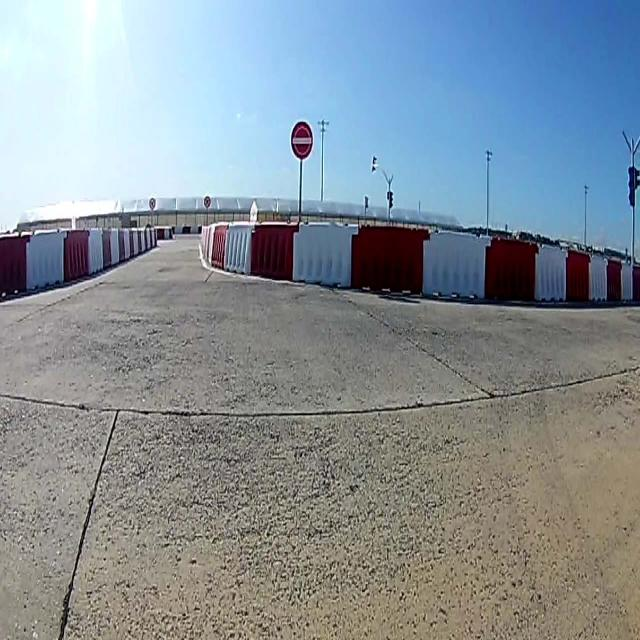girisyok: (291, 122, 312, 157)
